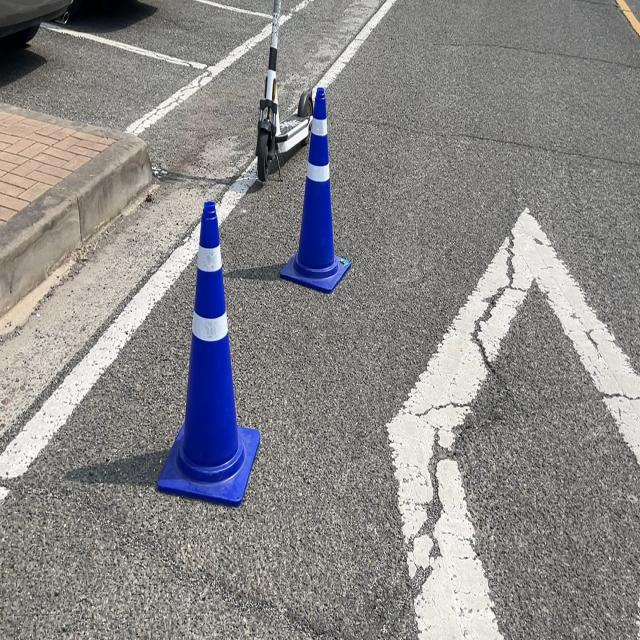b_rub: (158, 200, 260, 506), (280, 84, 352, 292)
